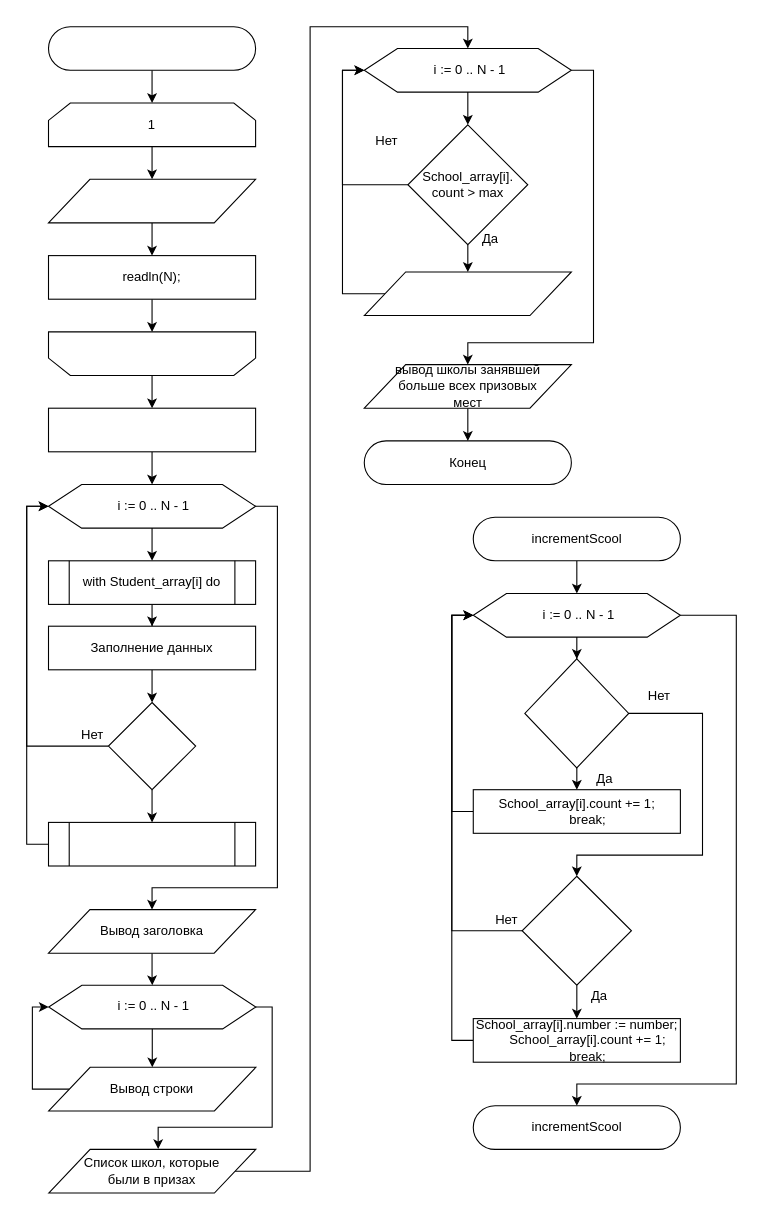
The diagram is 764 pixels wide and 1212 high, and some of its shapes have lost their labels. Each missing label, with the centre of its shape:
1 N > 9: (x=151, y=353)
incrementScool(number, School_array, N): (x=151, y=843)
max := School_array[i].count name:= School_array[i]. number: (x=467, y=293)
mecto < 4: (x=151, y=745)
School_array[i] .number = 0: (x=576, y=930)
School_array[i] .number = number: (x=576, y=713)
setLength(Race_array, N); setLength(School_array, N);: (x=151, y=429)
Введите кол-во записей: (x=151, y=200)
Начало: (x=151, y=48)
